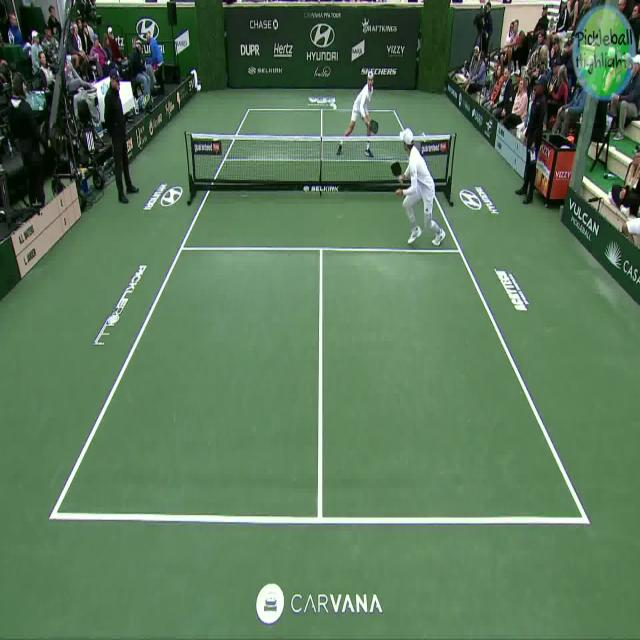ball: (328, 92, 341, 114)
